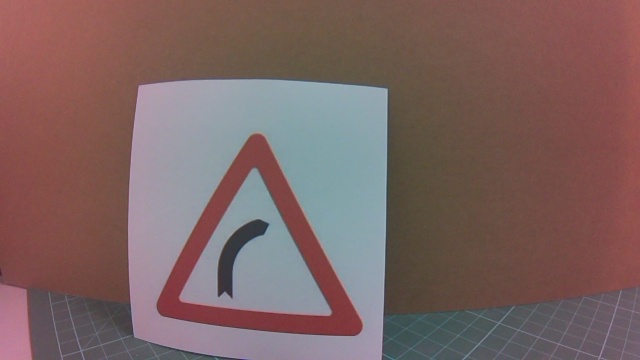right: (138, 159, 338, 335)
